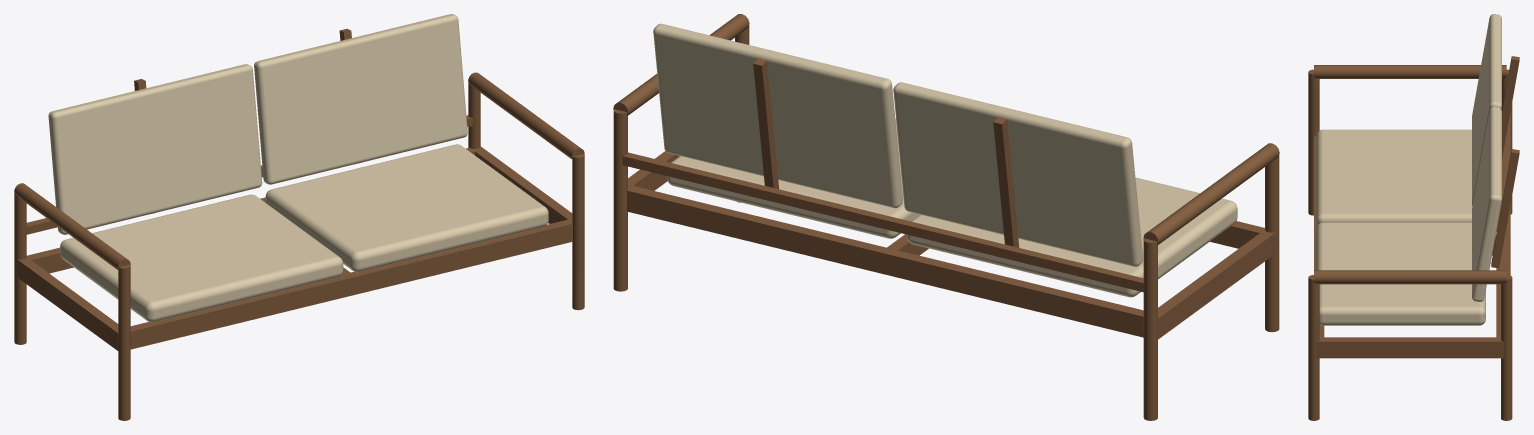
3 views of the same model, side by side, from view 1: azimuth 30°, elevation 25°; view 2: azimuth 150°, elevation 25°; view 3: azimuth 270°, elevation 25° (orthographic). The views are drawn at different scales.
Parts seen in each view (by area): view 1: back-right, back-left, seat-right, seat-left, rail-front, rail-left, post-left-front, arm-right, arm-left, post-right-front, post-left-rear, rail-right (+2 smaller); view 2: back-right, back-left, rail-rear, seat-left, back-crossbar, seat-right, rail-left, arm-left, post-left-rear, post-right-rear, post-left-front, back-support-left (+4 smaller); view 3: seat-left, seat-right, rail-right, back-right, arm-right, back-left, arm-left, post-right-rear, post-right-front, post-left-front, back-support-right, back-crossbar (+4 smaller).
Part boxes in pixels (box(x1,y1,x2,y2)): back-right: box(254, 14, 467, 184); back-left: box(48, 64, 262, 234); seat-right: box(265, 144, 548, 272); seat-left: box(60, 194, 343, 322); rail-front: box(130, 219, 572, 349); rail-left: box(17, 259, 118, 350); post-left-front: box(118, 264, 130, 420); arm-right: box(468, 72, 584, 159); arm-left: box(14, 183, 130, 270); post-right-front: box(572, 154, 584, 310); post-left-rear: box(14, 193, 26, 344); rail-right: box(471, 146, 572, 223); back-right: box(653, 23, 902, 208); back-left: box(893, 82, 1142, 266); rail-rear: box(627, 186, 1143, 337); seat-left: box(907, 177, 1237, 297); back-crossbar: box(622, 152, 1144, 292); seat-right: box(667, 119, 919, 238); rail-left: box(1158, 230, 1276, 339); arm-left: box(1143, 143, 1279, 245); post-left-rear: box(1143, 238, 1157, 420); post-right-rear: box(613, 109, 627, 291); post-left-front: box(1265, 155, 1279, 332); back-support-left: box(993, 117, 1019, 247); seat-left: box(1316, 129, 1472, 226); seat-right: box(1316, 222, 1485, 325); rail-right: box(1316, 337, 1504, 358); back-right: box(1472, 107, 1501, 301); arm-right: box(1314, 270, 1506, 284); back-left: box(1472, 14, 1501, 205); arm-left: box(1314, 65, 1506, 78); post-right-rear: box(1501, 275, 1512, 420); post-right-front: box(1308, 275, 1319, 420); post-left-front: box(1308, 69, 1319, 215); back-support-right: box(1491, 149, 1519, 268); back-crossbar: box(1502, 112, 1510, 275).
Size of the model in its own units: 2.18 by 1.02 by 0.9219.
